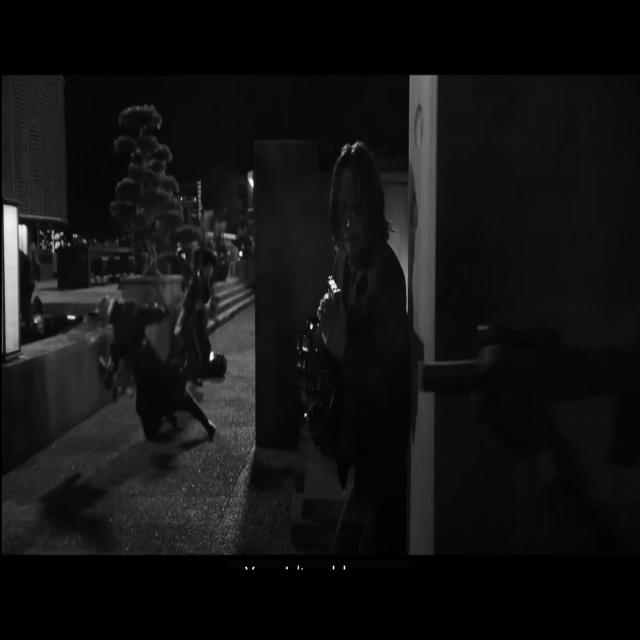weapons: (323, 246, 359, 377)
